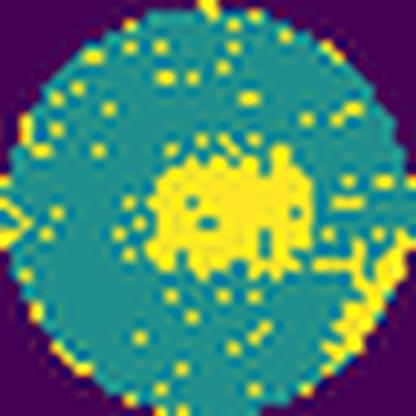Center: (143, 141, 314, 284)
